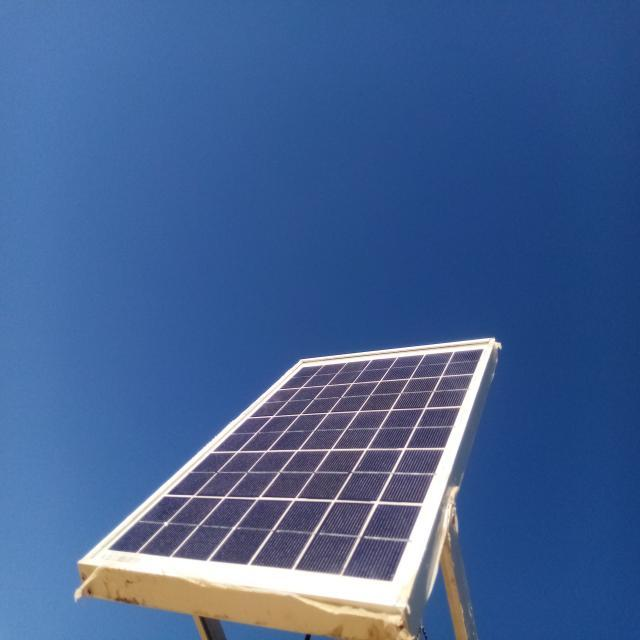no faulty: (82, 343, 494, 601)
